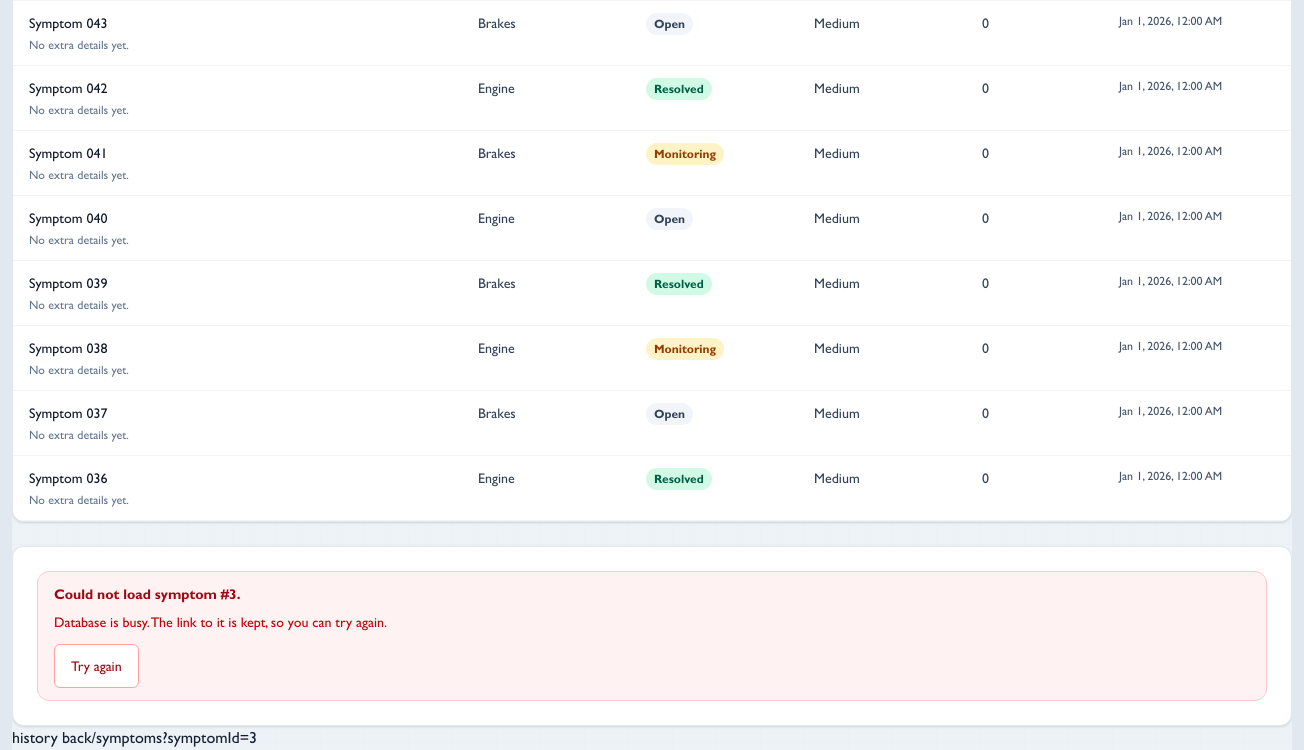
Test: a failed lookup names the symptom, keeps the link, and retries; a 404 drops it
(page scrolled)
Expected: the text "Could not load symptom #3." is shown, [54,586,240,602]
Click the button "Try again": x=96, y=666 [54,644,139,688]
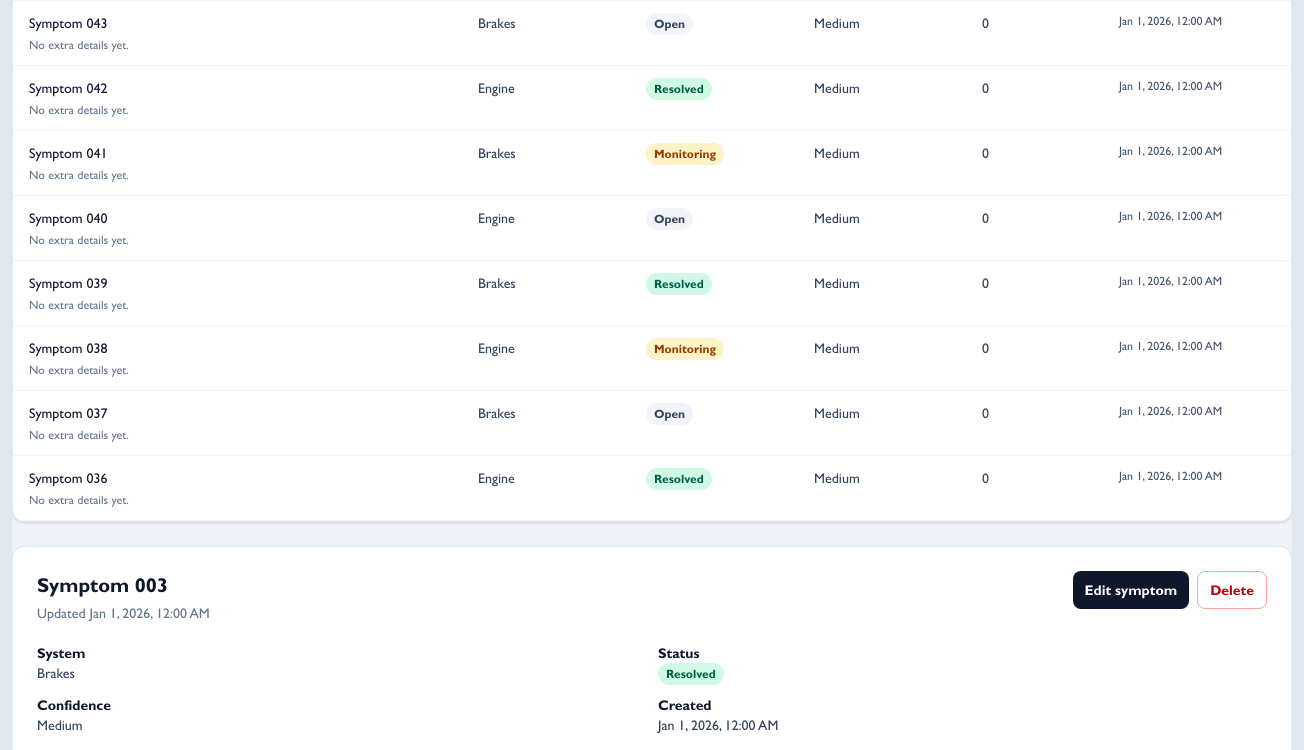
Result: the heading "Symptom 003" is shown at [37,573,168,597]
